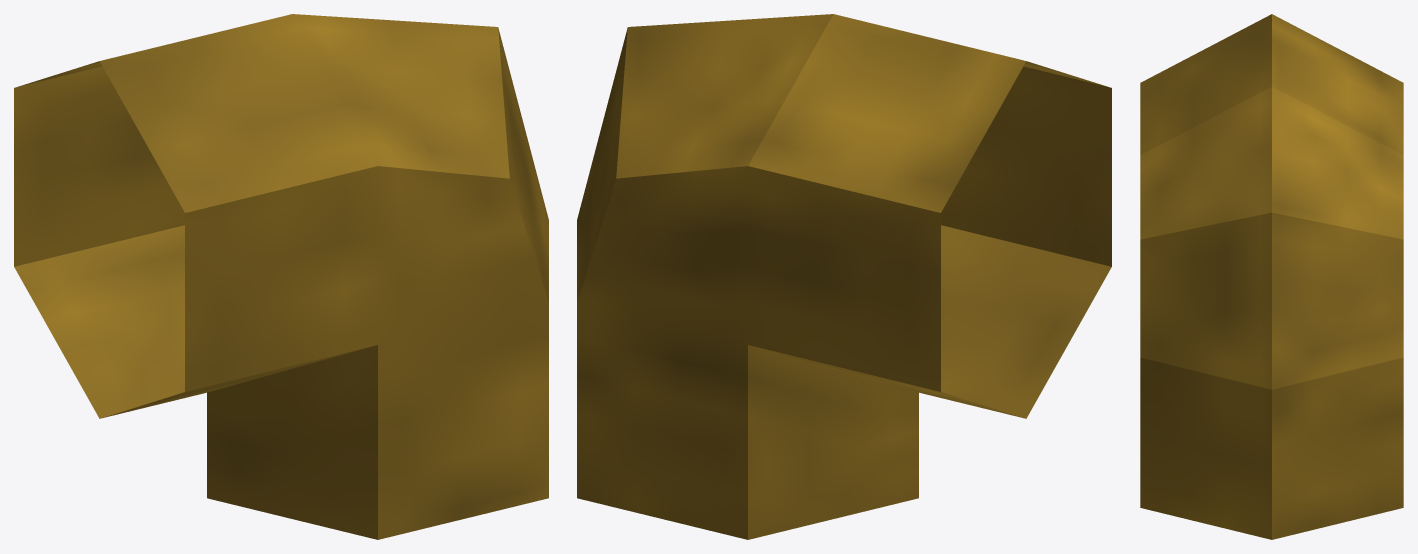
The model's file is MESH_PIPE_MEDIUM_2_001.fbx.
3 views of the same model, side by side, from view 1: azimuth 30°, elevation 25°; view 2: azimuth 150°, elevation 25°; view 3: azimuth 270°, elevation 25° (orthographic). The views are drawn at different scales.
Visible parts, largest first — view 1: MESH_PIPE_MEDIUM_2.001; view 2: MESH_PIPE_MEDIUM_2.001; view 3: MESH_PIPE_MEDIUM_2.001.
Part boxes in pixels (box(x1,y1,x2,y2)): MESH_PIPE_MEDIUM_2.001: box(14, 14, 548, 539); MESH_PIPE_MEDIUM_2.001: box(577, 14, 1111, 539); MESH_PIPE_MEDIUM_2.001: box(1140, 14, 1403, 539).
Bounding box in the file's own units: 0.3339 × 0.3291 × 0.2201.
